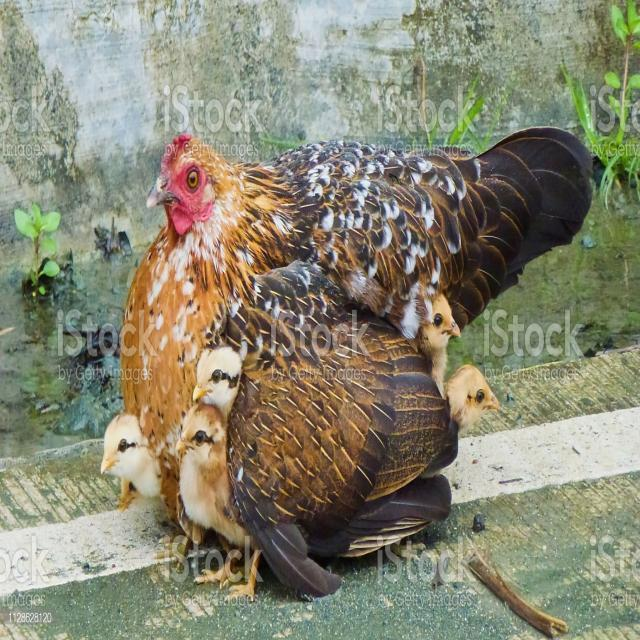Healthy: (84, 83, 596, 573), (167, 400, 275, 588)
